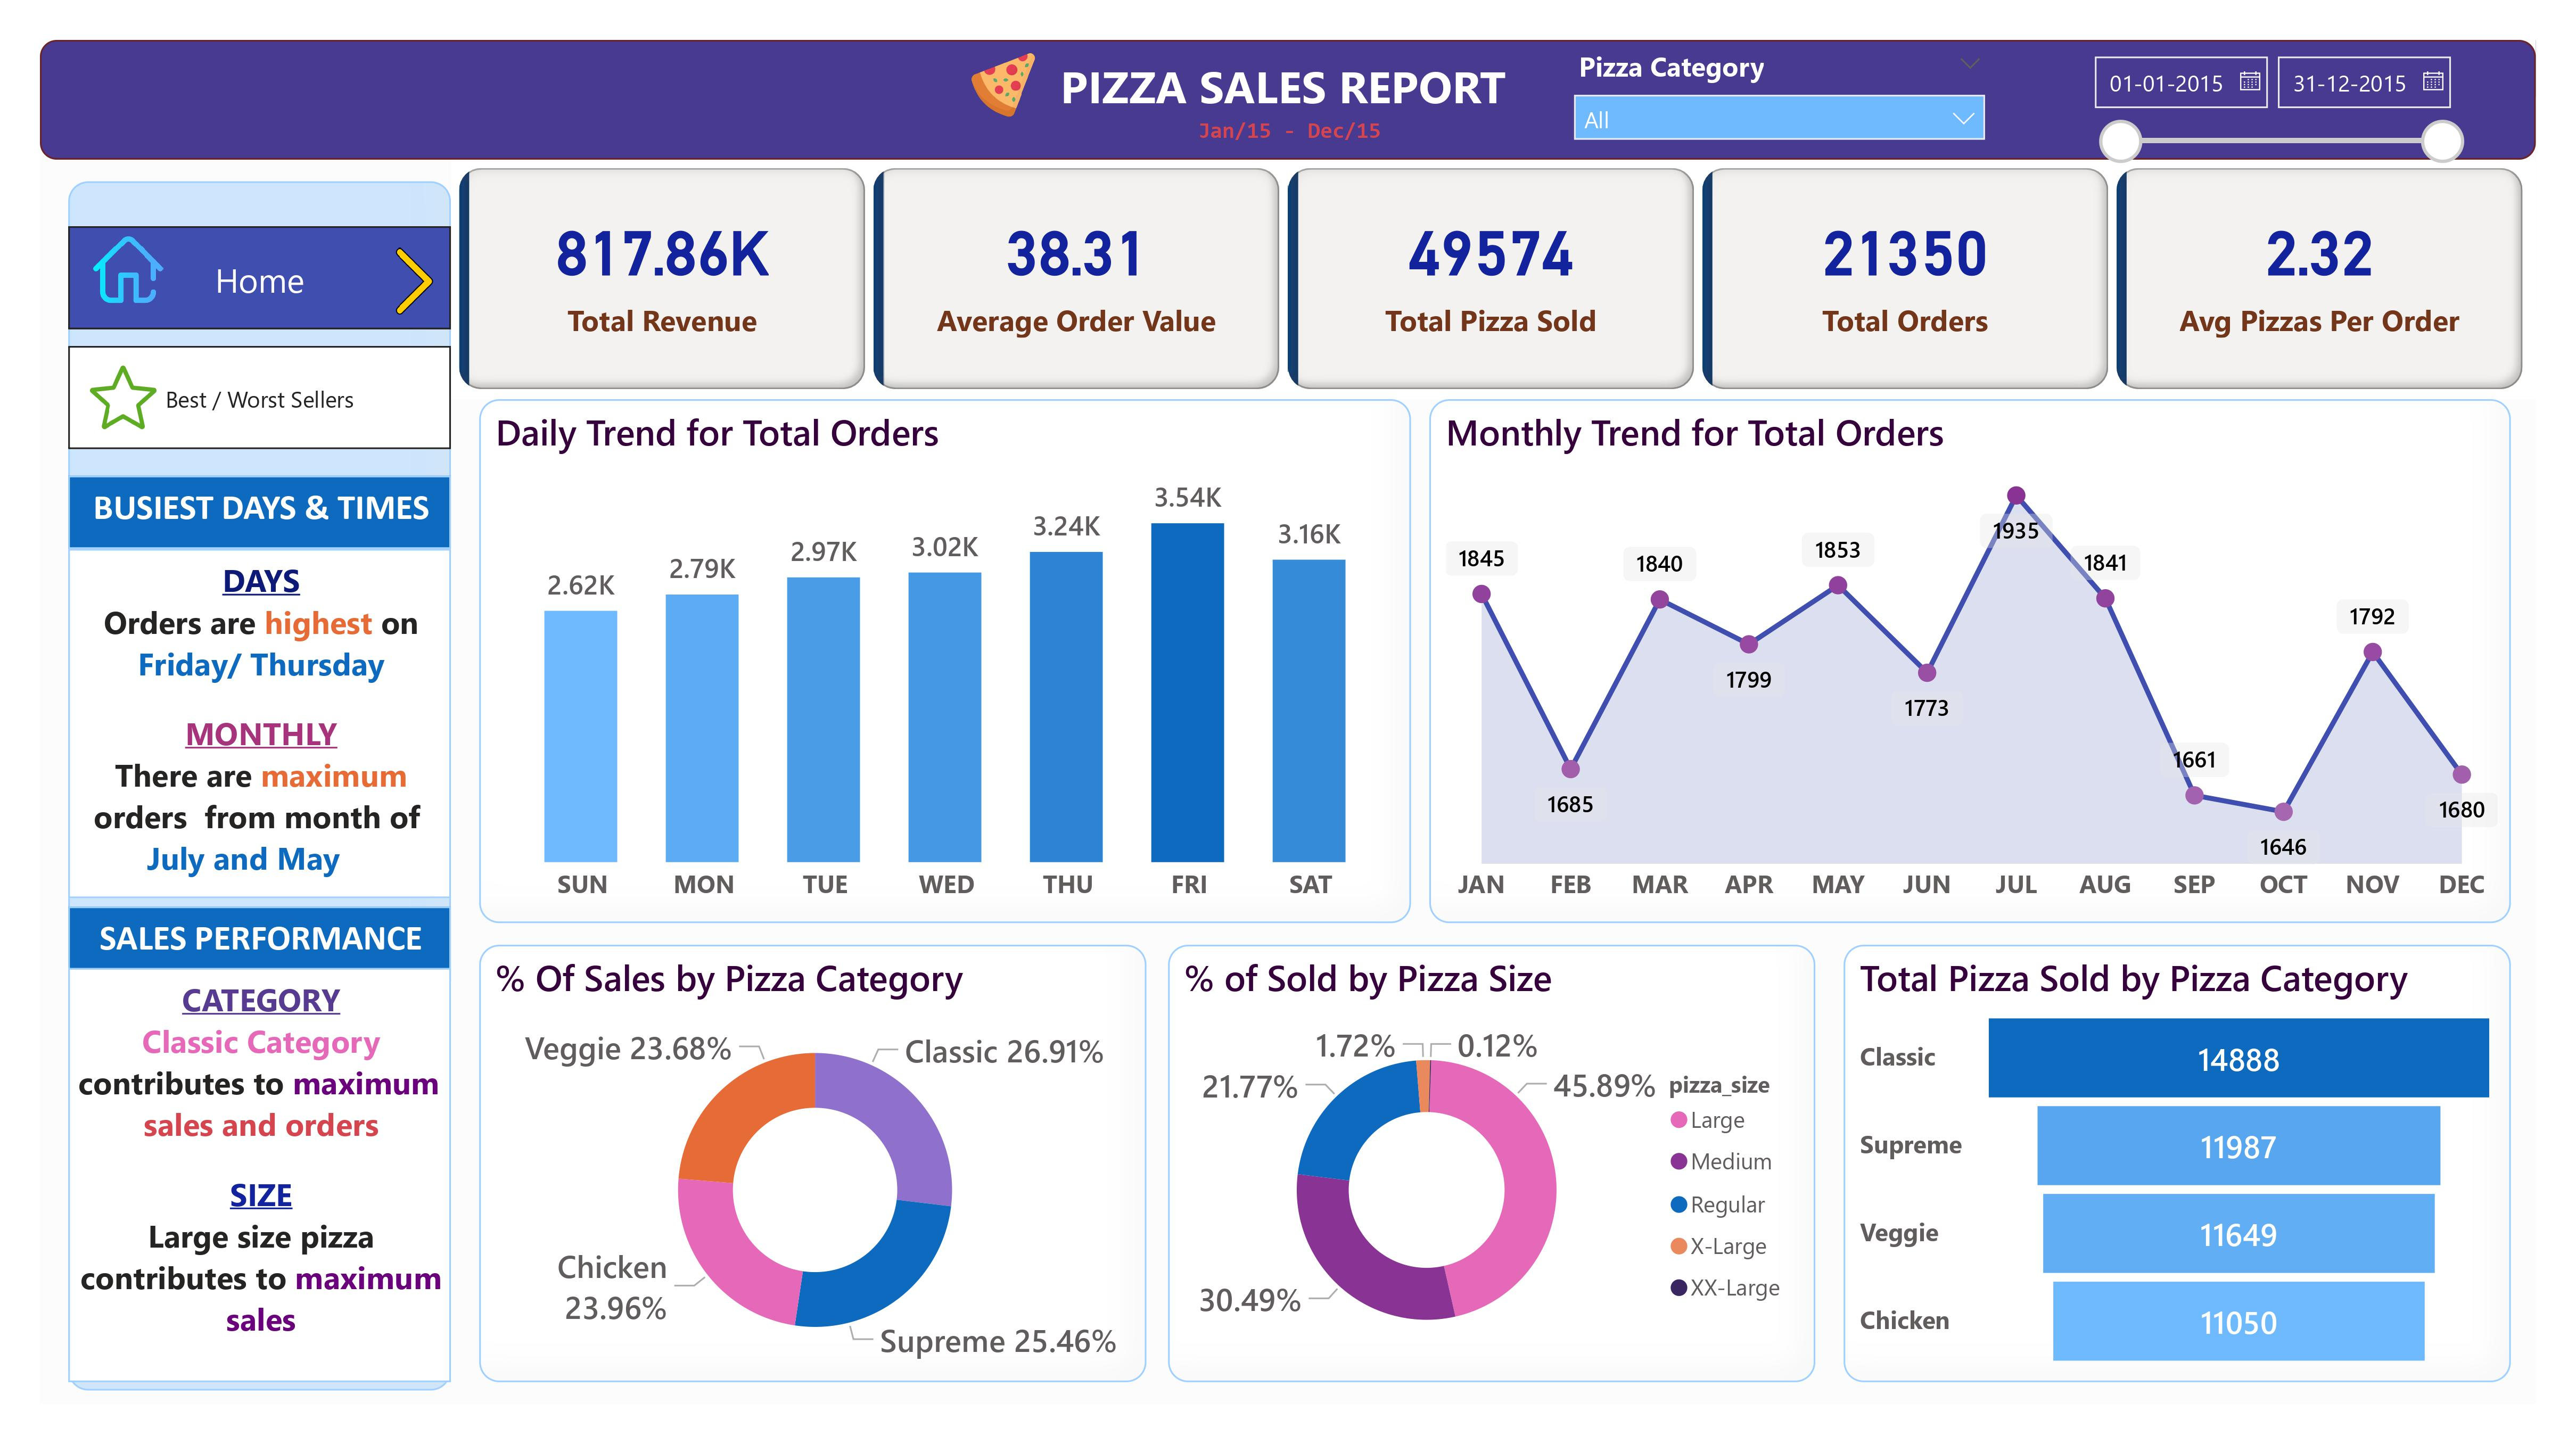

The page's visual inventory and layout, read from the dashboard file:
{"tool":"powerbi","page":{"name":"Home","canvas":[1500,820],"ordinal":0},"visuals":[{"type":"textbox","box":[16.6,84.8,230.3,727],"z":0},{"type":"cardVisual","fields":{"Data":["pizza_sales.Total Revenue","pizza_sales.Average Order Value","pizza_sales.Total Pizza Sold","pizza_sales.Total Orders","pizza_sales.Avg Pizzas Per Order"]},"box":[246.9,71.9,1253,143.7],"z":1000},{"type":"textbox","box":[482.8,25.8,504.9,24],"z":2000},{"type":"textbox","box":[0,0,1500,71.9],"z":3000},{"type":"image","box":[541.8,1.8,73.7,49.8],"z":4000},{"type":"columnChart","title":"Daily Trend for Total Orders","fields":{"Category":["pizza_sales.Order Day"],"Y":["pizza_sales.Total Orders"]},"box":[263.5,215.6,560.2,315.1],"z":5000},{"type":"areaChart","title":"Monthly Trend for Total Orders","fields":{"Category":["pizza_sales.Order Month"],"Y":["pizza_sales.Total Orders"]},"box":[834.5,216.4,650.9,314.5],"z":6000},{"type":"donutChart","title":"% Of Sales by Pizza Category","fields":{"Category":["pizza_sales.pizza_category"],"Y":["pizza_sales.Total Revenue"]},"box":[263.5,543.6,401.7,263.5],"z":7000},{"type":"funnel","title":"Total Pizza Sold by Pizza Category","fields":{"Category":["pizza_sales.pizza_category"],"Y":["pizza_sales.Total Pizza Sold"]},"box":[1083.5,543.6,401.7,263.5],"z":8000},{"type":"donutChart","title":"% of Sold by Pizza Size","fields":{"Category":["pizza_sales.pizza_size"],"Y":["pizza_sales.Total Revenue"]},"box":[678.1,543.6,388.8,263.5],"z":9000},{"type":"textbox","box":[16.6,261.7,230.3,44.2],"z":10000},{"type":"textbox","box":[16.6,305.9,230.3,210.1],"z":11000},{"type":"textbox","box":[16.6,521.5,230.3,44.2],"z":12000},{"type":"textbox","box":[16.6,558.3,230.3,248.8],"z":13000},{"type":"slicer","fields":{"Values":["pizza_sales.pizza_category"]},"box":[912.1,0,267.2,71.9],"z":14000},{"type":"slicer","fields":{"Values":["pizza_sales.order_date"]},"box":[1221.7,0,243.2,84.8],"z":15000},{"type":"pageNavigator","box":[16.6,184.3,230.3,62.7],"z":16000},{"type":"pageNavigator","box":[16.6,112.4,230.3,62.7],"z":17000},{"type":"image","box":[186.1,119.8,77.4,49.8],"z":18000},{"type":"image","box":[16.6,112.4,71.9,51.6],"z":19000},{"type":"image","box":[11.1,189.8,77.4,49.8],"z":20000}]}

Visuals, with their boxes on the page's 1500x820 design canvas (x1, y1, x2, y2). These are canvas units, not pixel positions in the 2576x1444 screenshot, which may show the page scaled, cropped or inside an application window:
textbox: [x1=17, y1=85, x2=247, y2=812]
cardVisual - pizza_sales.Total Revenue x pizza_sales.Average Order Value: [x1=247, y1=72, x2=1500, y2=216]
textbox: [x1=483, y1=26, x2=988, y2=50]
textbox: [x1=0, y1=0, x2=1500, y2=72]
image: [x1=542, y1=2, x2=616, y2=52]
"Daily Trend for Total Orders" columnChart: [x1=264, y1=216, x2=824, y2=531]
"Monthly Trend for Total Orders" areaChart: [x1=834, y1=216, x2=1485, y2=531]
"% Of Sales by Pizza Category" donutChart: [x1=264, y1=544, x2=665, y2=807]
"Total Pizza Sold by Pizza Category" funnel: [x1=1084, y1=544, x2=1485, y2=807]
"% of Sold by Pizza Size" donutChart: [x1=678, y1=544, x2=1067, y2=807]
textbox: [x1=17, y1=262, x2=247, y2=306]
textbox: [x1=17, y1=306, x2=247, y2=516]
textbox: [x1=17, y1=522, x2=247, y2=566]
textbox: [x1=17, y1=558, x2=247, y2=807]
slicer - pizza_sales.pizza_category: [x1=912, y1=0, x2=1179, y2=72]
slicer - pizza_sales.order_date: [x1=1222, y1=0, x2=1465, y2=85]
pageNavigator: [x1=17, y1=184, x2=247, y2=247]
pageNavigator: [x1=17, y1=112, x2=247, y2=175]
image: [x1=186, y1=120, x2=264, y2=170]
image: [x1=17, y1=112, x2=88, y2=164]
image: [x1=11, y1=190, x2=88, y2=240]
